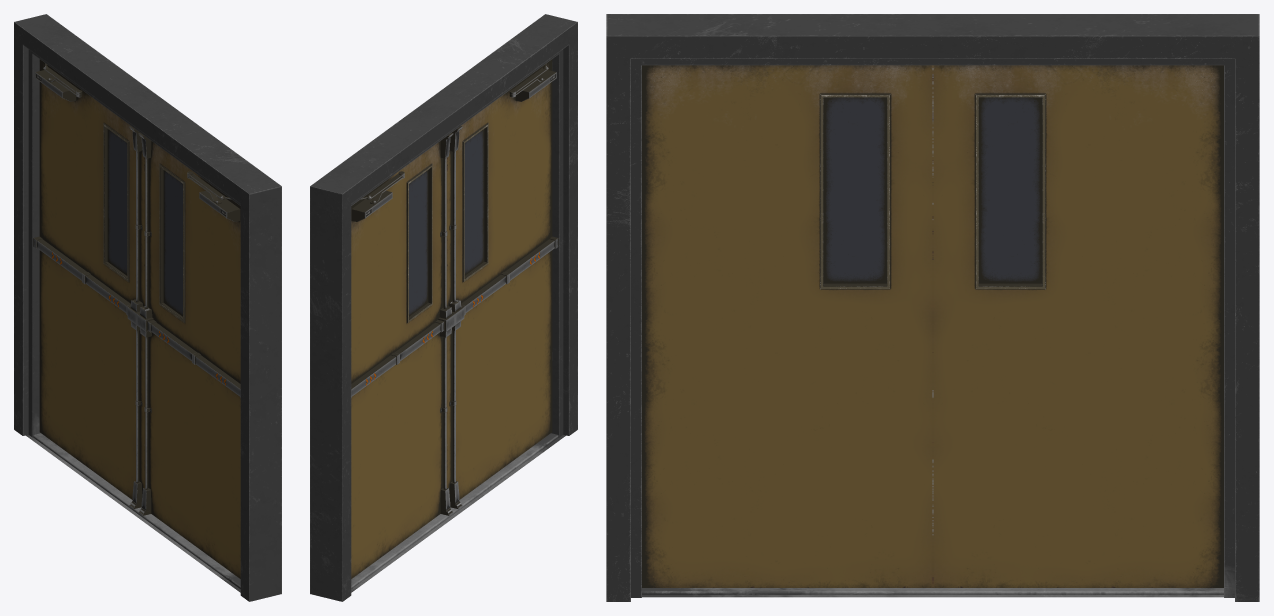
File: DOUBLE door3.fbx
3 renders of one model, left to right at view 1: azimuth 30°, elevation 25°; view 2: azimuth 150°, elevation 25°; view 3: azimuth 270°, elevation 25°, orthographic. The views are drawn at different scales.
Visible parts, largest first — view 1: 02_02_0, 01_01_0, 01_01_0.001; view 2: 02_02_0, 01_01_0.001, 01_01_0; view 3: 01_01_0, 01_01_0.001, 02_02_0.
Boxes of the visible parts, box(x1,y1,x2,y2) form: 02_02_0: box(14, 14, 281, 601); 01_01_0: box(33, 59, 144, 509); 01_01_0.001: box(136, 133, 240, 578); 02_02_0: box(310, 14, 577, 601); 01_01_0.001: box(447, 59, 558, 509); 01_01_0: box(351, 133, 455, 578); 01_01_0: box(933, 65, 1223, 587); 01_01_0.001: box(642, 65, 932, 587); 02_02_0: box(606, 14, 1259, 601).
Bounding box in the file's own units: 24.74 × 289 × 303.
2 materials, 2 textured.
